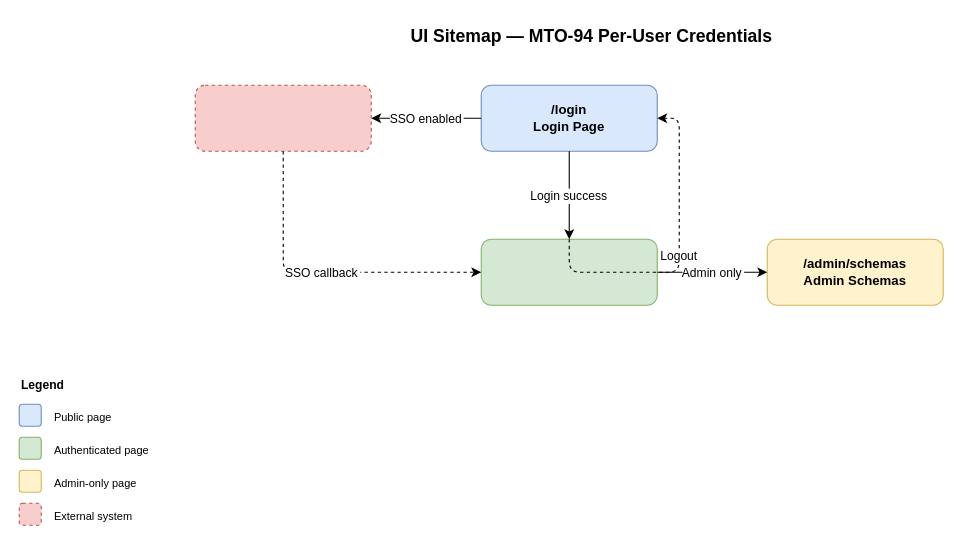
The diagram is 963 pixels wide and 545 high, and some of its shapes have lost their labels. The shapes that lost their labels are listed below. From the top down, each one's centre as x and y in pixels, then its label:
the point at 282,117: SSO IdP (External)
the point at 568,271: /profile Profile Page
